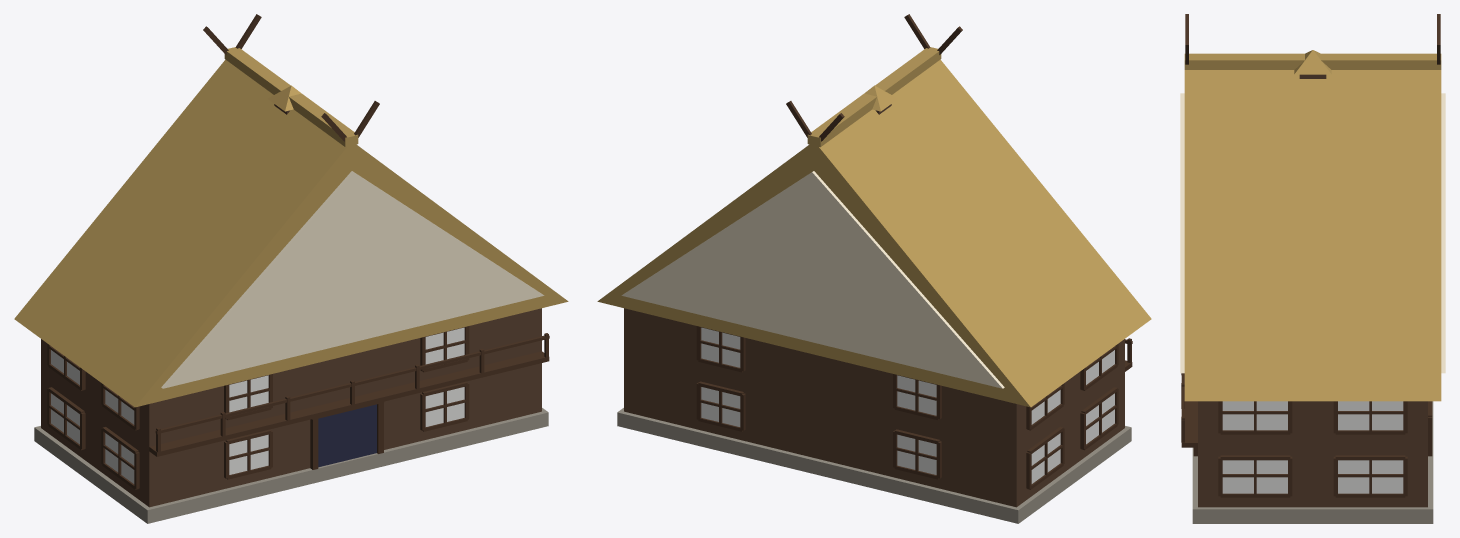
The model's file is house-2x1-2f-gassho-a.glb.
The picture shows the model from 3 angles, left to right: view 1: azimuth 30°, elevation 25°; view 2: azimuth 150°, elevation 25°; view 3: azimuth 270°, elevation 25°; orthographic projection. The views are drawn at different scales.
Visible parts, largest first — view 1: house-2x1-2f-gassho-a; view 2: house-2x1-2f-gassho-a; view 3: house-2x1-2f-gassho-a.
Boxes of the visible parts, x1,y1,x2,y2 form: house-2x1-2f-gassho-a: [14, 14, 568, 523]; house-2x1-2f-gassho-a: [597, 14, 1151, 523]; house-2x1-2f-gassho-a: [1180, 14, 1445, 523].
Bounding box in the file's own units: 1.99 × 1.62 × 0.99.
Materials: 1 (1 with a texture image).
